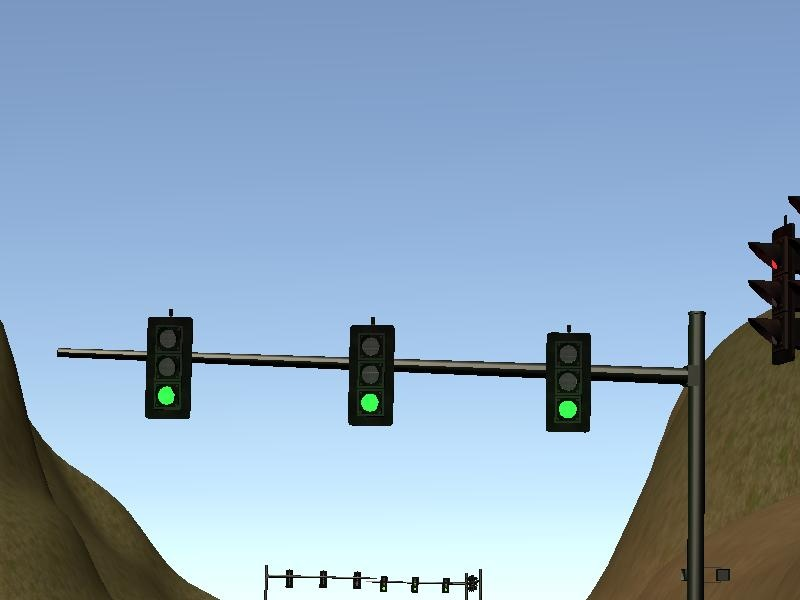GREEN: (546, 330, 596, 438), (347, 325, 395, 426), (144, 317, 191, 420)
